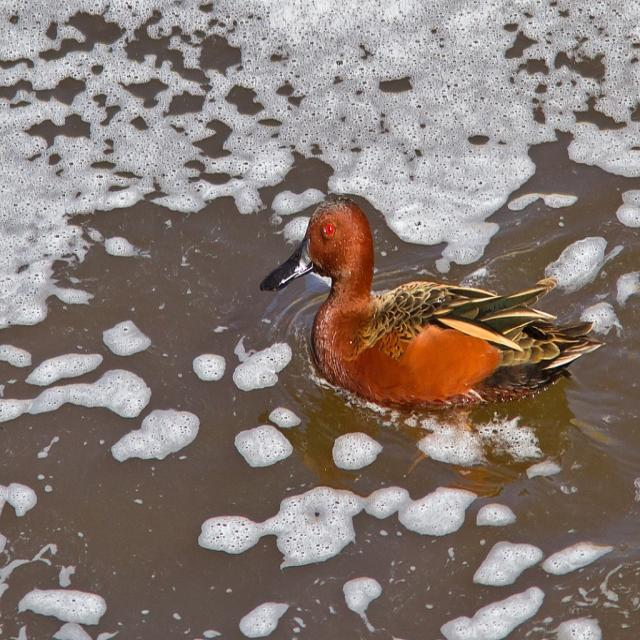bird: (258, 180, 609, 412)
